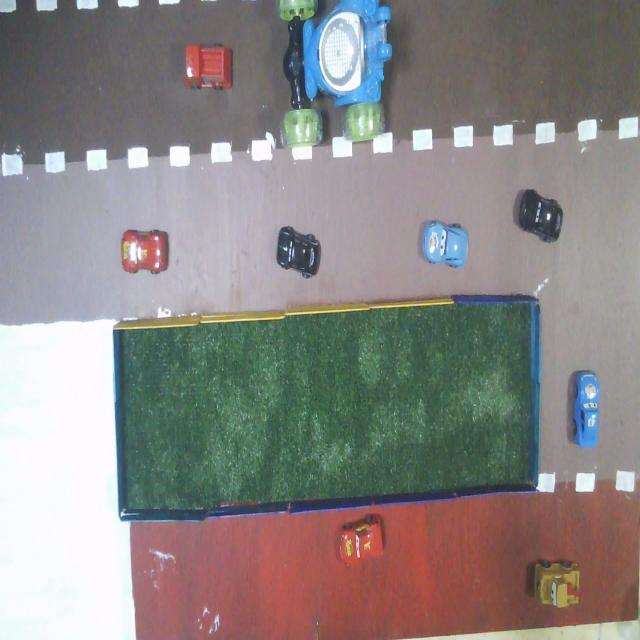small cars: (517, 189, 563, 242), (276, 226, 321, 278), (340, 514, 383, 565), (421, 221, 468, 267), (121, 230, 169, 274), (534, 561, 579, 607), (186, 45, 231, 89), (573, 372, 599, 447)
